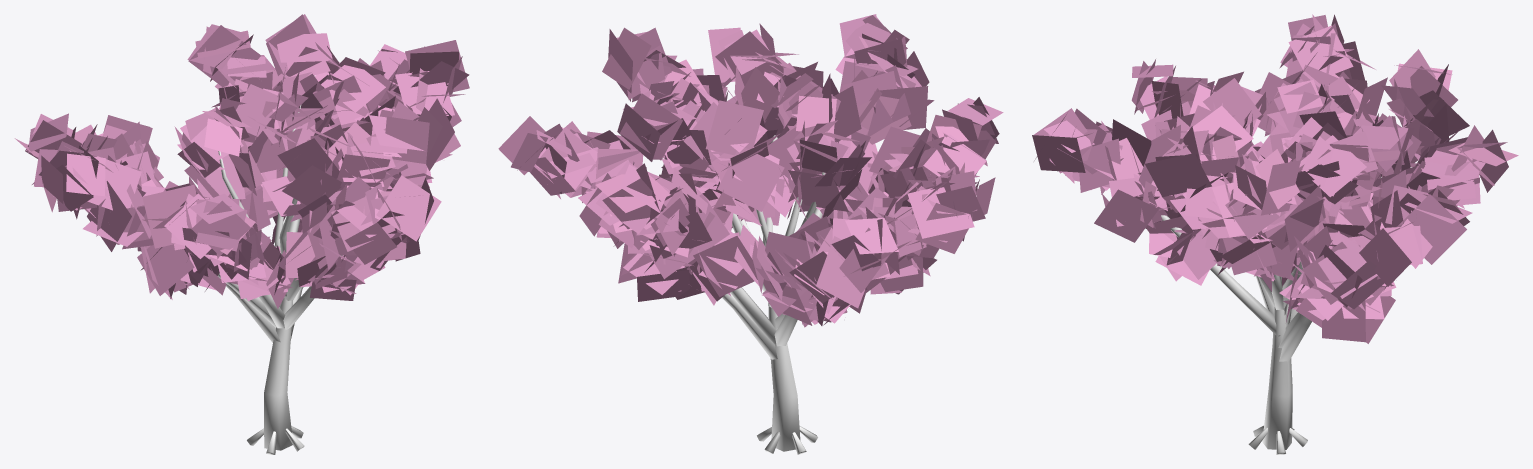
Rendered from SM_Sakura_Hero_LOD2.fbx.
3 views of the same model, side by side, from view 1: azimuth 30°, elevation 25°; view 2: azimuth 150°, elevation 25°; view 3: azimuth 270°, elevation 25° (orthographic). The views are drawn at different scales.
Visible parts, largest first — view 1: SM_Sakura_Hero_LOD2; view 2: SM_Sakura_Hero_LOD2; view 3: SM_Sakura_Hero_LOD2.
Boxes of the visible parts, box(x1,y1,x2,y2) form: SM_Sakura_Hero_LOD2: box(14, 14, 469, 454); SM_Sakura_Hero_LOD2: box(498, 14, 1003, 454); SM_Sakura_Hero_LOD2: box(1032, 14, 1518, 454).
Size of what is drawn, in the model's own units: 9.71 by 9.36 by 7.83.
